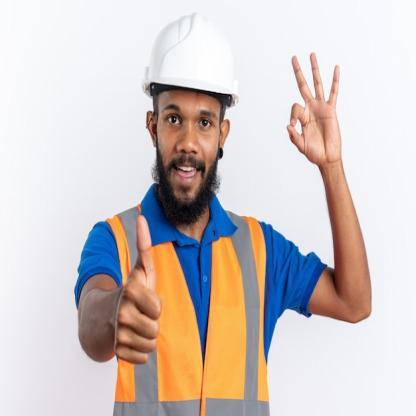ok: (284, 49, 348, 168)
thumb_up: (114, 208, 168, 370)
